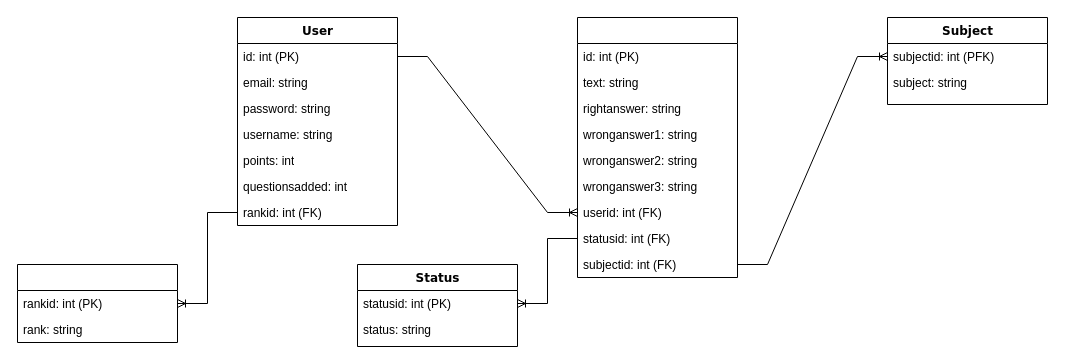
The diagram is 1065 pixels wide and 364 high, and some of its shapes have lost their labels. Here are the shapes that lost their labels. From the top down, the box of each, then its label:
(576, 16, 738, 278): Question
(16, 264, 178, 342): UserToRank
